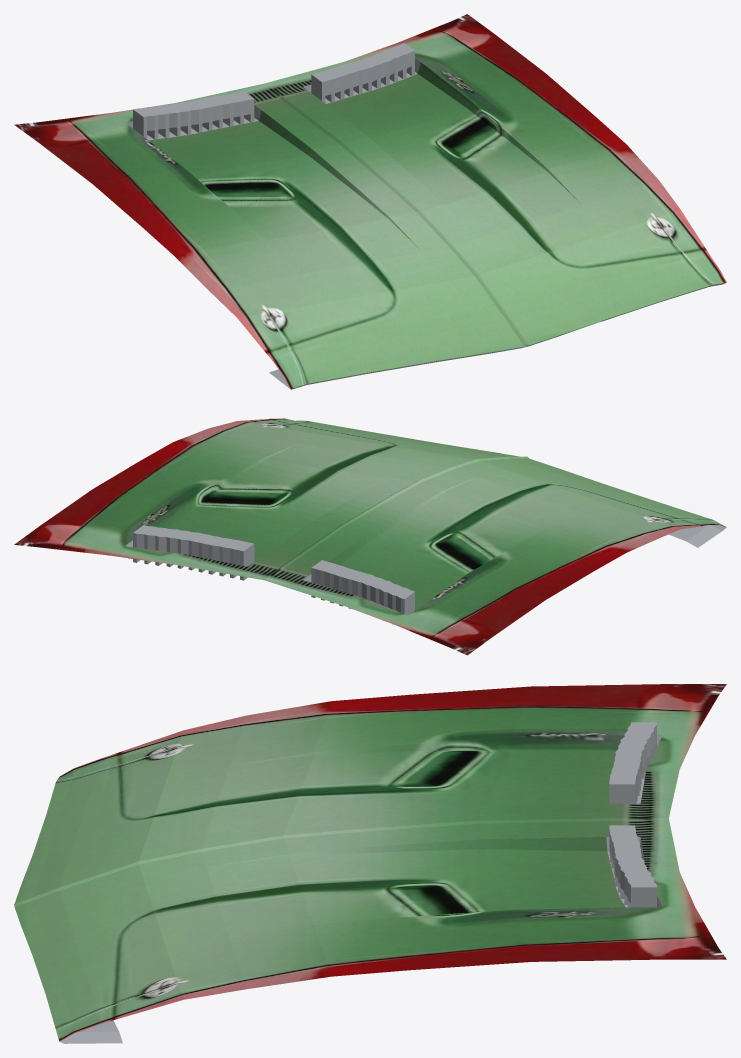
Rendered from cofre.fbx.
3 renders of one model, top to bottom at view 1: azimuth 30°, elevation 25°; view 2: azimuth 150°, elevation 25°; view 3: azimuth 270°, elevation 25°, orthographic. The views are drawn at different scales.
Parts seen in each view (by area): view 1: cofre; view 2: cofre; view 3: cofre.
Boxes of the visible parts, bbox=[...] form: cofre: bbox=[14, 14, 726, 389]; cofre: bbox=[14, 418, 726, 655]; cofre: bbox=[14, 684, 726, 1043].
Size of the model in its own units: 324 by 59.24 by 355.
